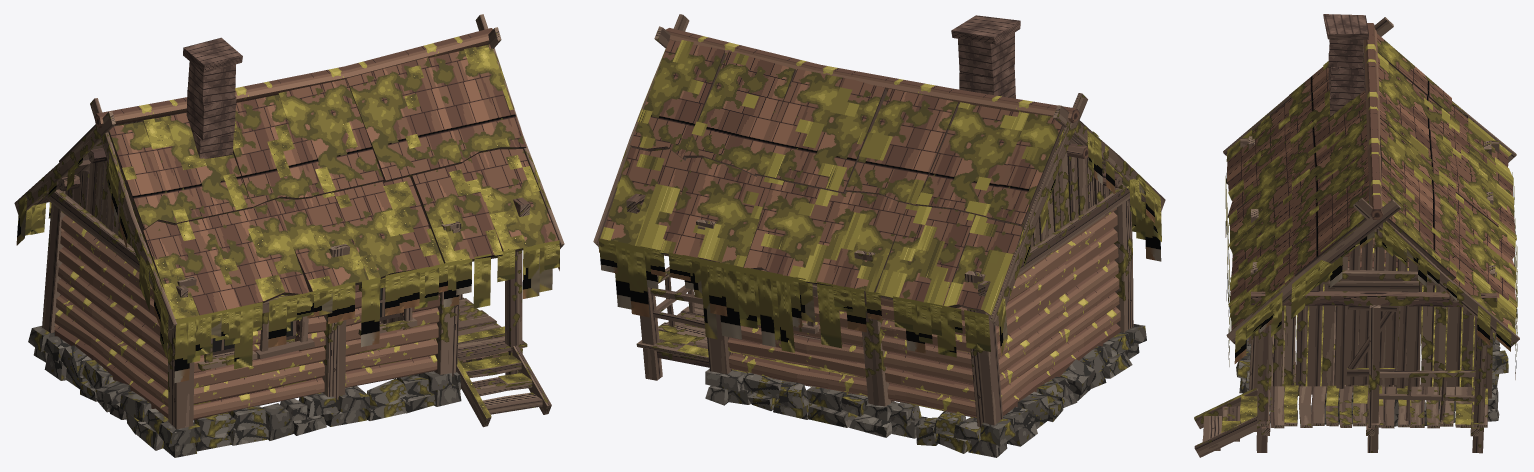
File: SM_SW17_MainHutPorch.fbx
3 renders of one model, left to right at view 1: azimuth 30°, elevation 25°; view 2: azimuth 150°, elevation 25°; view 3: azimuth 270°, elevation 25°, orthographic. The views are drawn at different scales.
Parts seen in each view (by area): view 1: SW17a_Roof, SW17a_LogWall, SW17a_Planks, SW17a_Plants, SW17a_Stone, SW17a_Moss, SW17a_Props, SW17a_Bark; view 2: SW17a_Roof, SW17a_LogWall, SW17a_Planks, SW17a_Plants, SW17a_Moss, SW17a_Stone, SW17a_Props, SW17a_Bark; view 3: SW17a_Roof, SW17a_Planks, SW17a_Moss, SW17a_Plants, SW17a_Props, SW17a_Bark, SW17a_LogWall, SW17a_Stone.
Part boxes in pixels (box(x1,y1,x2,y2)): SW17a_Roof: box(109, 44, 558, 319); SW17a_LogWall: box(54, 28, 492, 420); SW17a_Planks: box(14, 14, 564, 429); SW17a_Plants: box(16, 153, 559, 383); SW17a_Stone: box(28, 326, 461, 457); SW17a_Moss: box(122, 47, 539, 417); SW17a_Props: box(54, 27, 564, 427); SW17a_Bark: box(62, 147, 529, 363); SW17a_Roof: box(601, 40, 1061, 315); SW17a_LogWall: box(666, 28, 1120, 418); SW17a_Planks: box(593, 14, 1165, 427); SW17a_Plants: box(598, 63, 1161, 357); SW17a_Moss: box(600, 40, 1098, 377); SW17a_Stone: box(705, 324, 1146, 457); SW17a_Props: box(594, 15, 1122, 326); SW17a_Bark: box(627, 143, 1119, 367); SW17a_Roof: box(1226, 34, 1516, 330); SW17a_Planks: box(1194, 17, 1519, 457); SW17a_Moss: box(1194, 52, 1517, 432); SW17a_Plants: box(1225, 172, 1517, 379); SW17a_Props: box(1215, 14, 1495, 450); SW17a_Bark: box(1250, 291, 1497, 434); SW17a_LogWall: box(1348, 23, 1475, 323); SW17a_Stone: box(1236, 332, 1508, 426).
Bounding box in the file's own units: 6.8 × 5.82 × 5.29.
